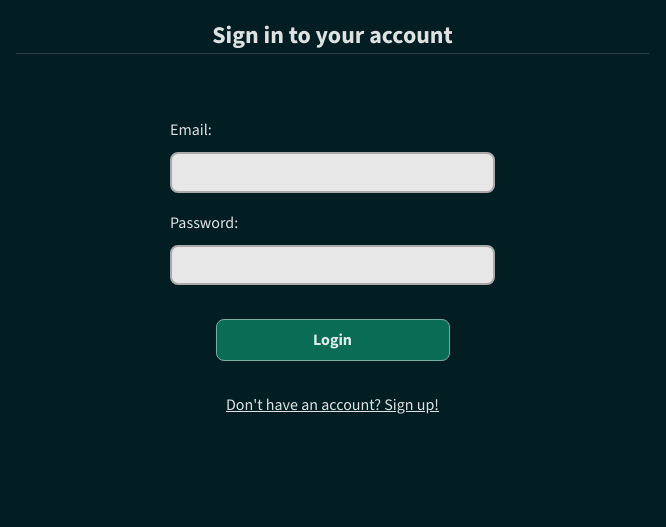
Auth component › renders the login page when the "Already have an account? Login!" button is clicked
Click the button "Don't have an account? Sign up!".
click(332, 406)  # box [226, 394, 439, 418]
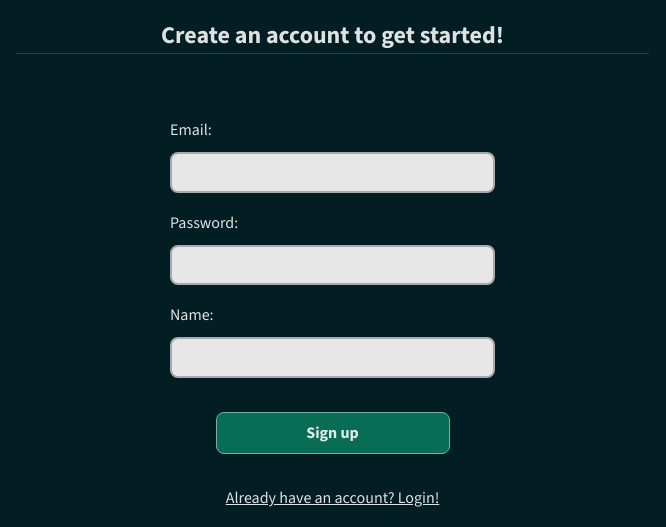
Click the button "Already have an account? Login!".
click(332, 498)  # box [226, 486, 439, 510]
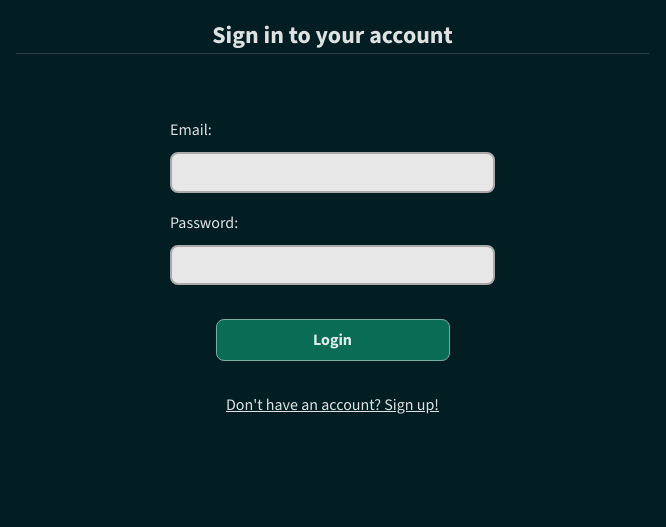
Now the heading "Sign in to your account" is shown, box [16, 17, 649, 54]
